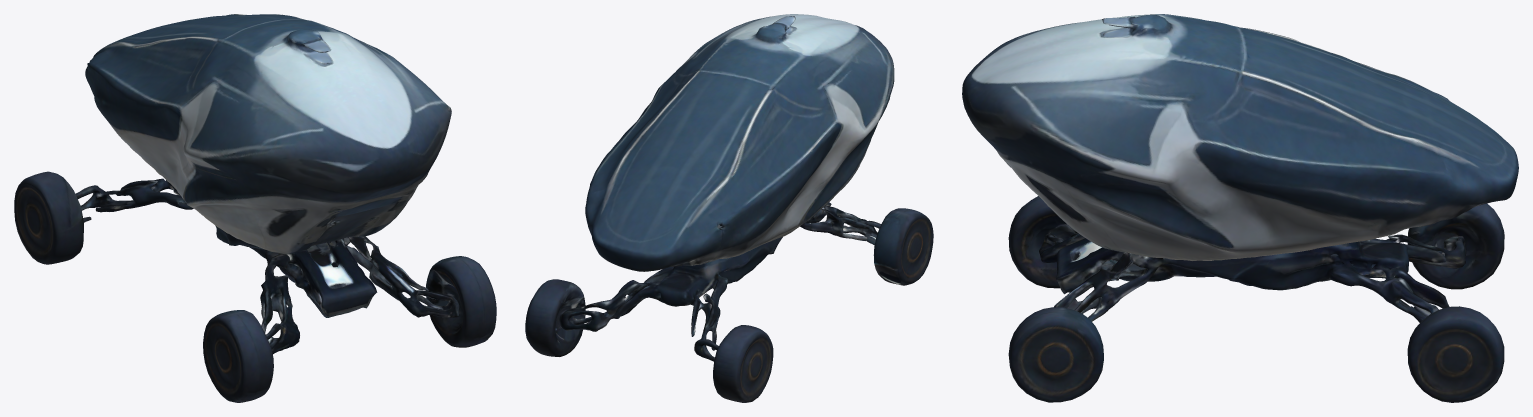
The model's file is Futuristic_Rover_1105204926.glb.
The picture shows the model from 3 angles, left to right: view 1: azimuth 30°, elevation 25°; view 2: azimuth 150°, elevation 25°; view 3: azimuth 270°, elevation 25°; orthographic projection. The views are drawn at different scales.
Size of the model in its own units: 1.11 by 1.28 by 2.
1 material, 1 textured.
